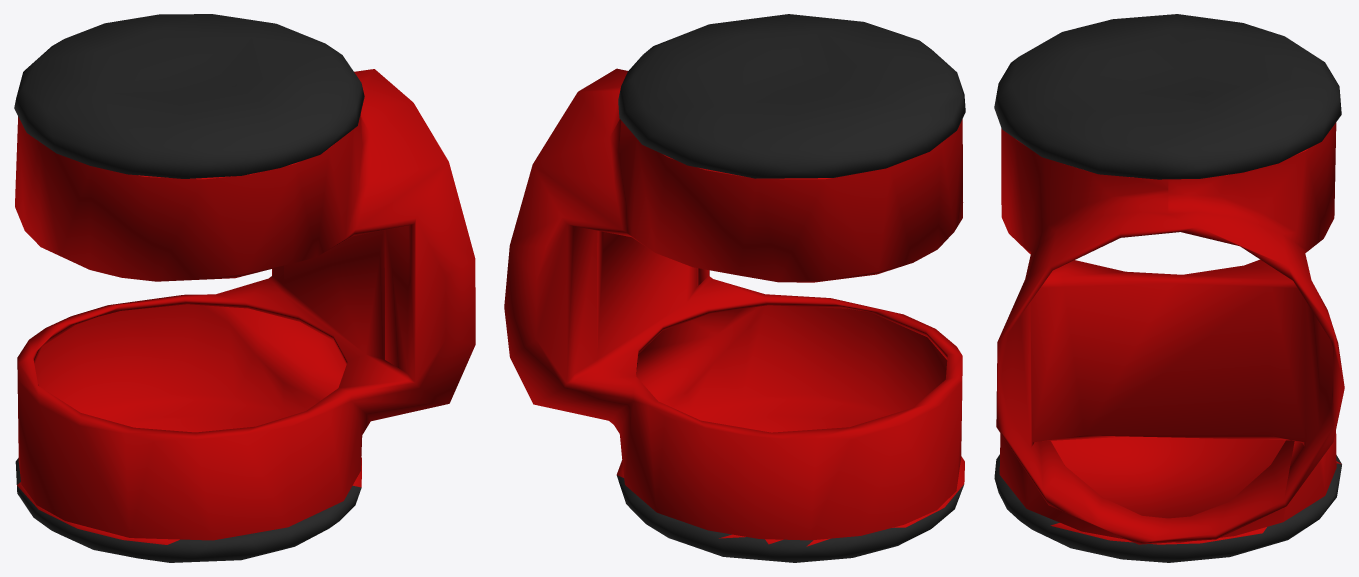
The model's file is E1_decimate.dae.
3 views of the same model, side by side, from view 1: azimuth 30°, elevation 25°; view 2: azimuth 150°, elevation 25°; view 3: azimuth 270°, elevation 25° (orthographic).
Parts seen in each view (by area): view 1: E1; view 2: E1; view 3: E1.
Boxes of the visible parts, x1,y1,x2,y2 form: E1: (14,14,475,562); E1: (504,14,965,562); E1: (994,14,1344,562).
Bounding box in the file's own units: 0.1612 × 0.1396 × 0.1893.
